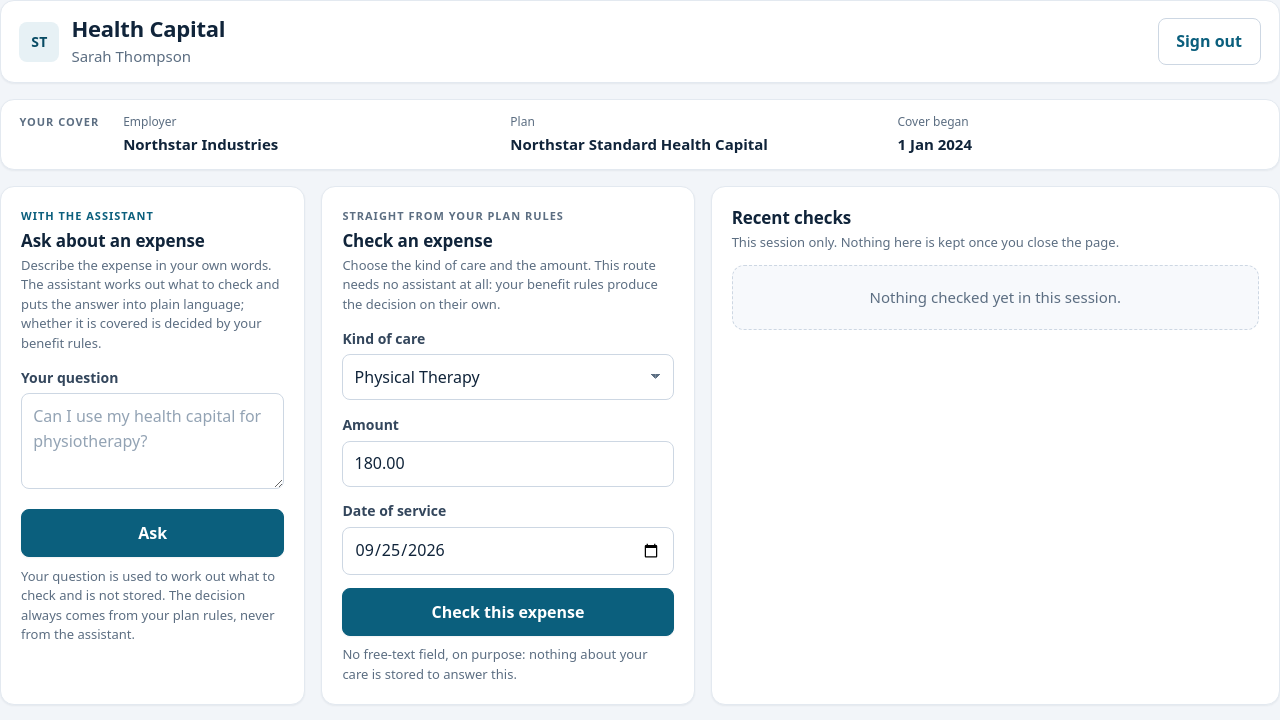
Test: recent checks keep one entry per thing that happened › keeps a different answer that follows the notice
Type "can I claim physio" into the text box labelled "Your question". click: (153, 441)
box: [21, 394, 284, 489]
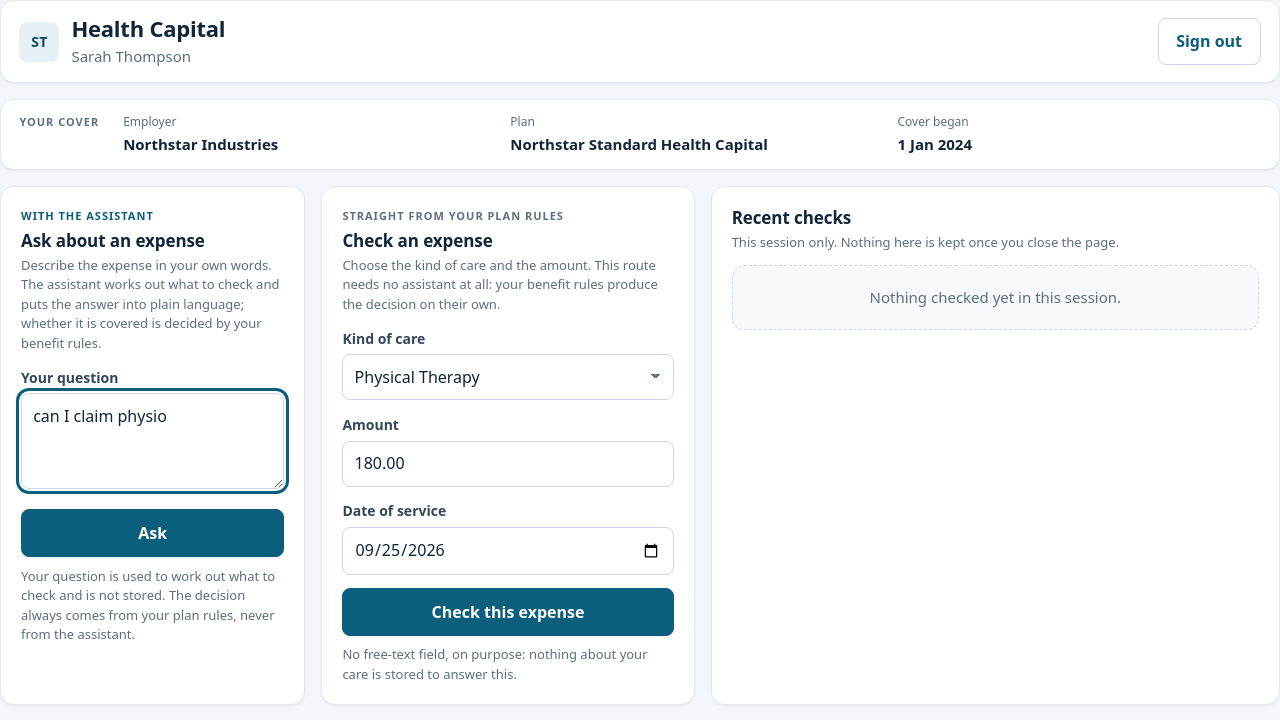
Click the button "Ask". click: click(153, 533)
box: [21, 509, 284, 557]
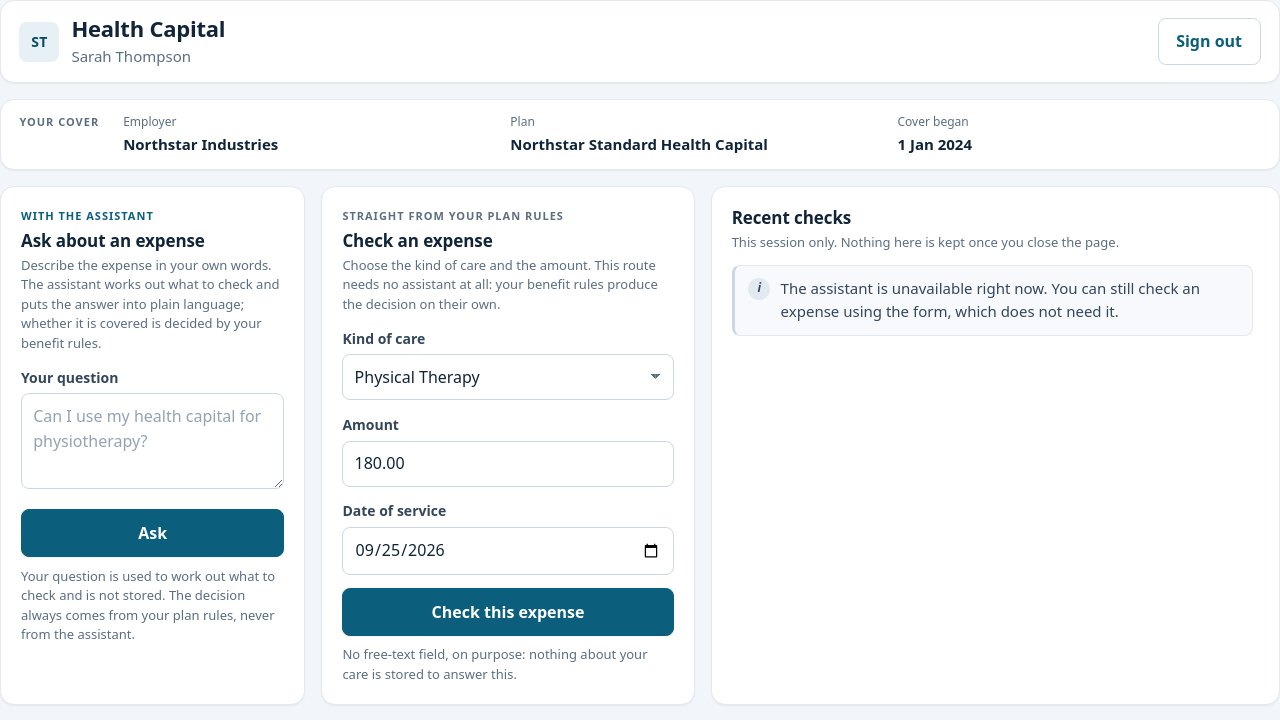
Now the text with test id "clarification" is shown, box [732, 265, 1253, 336]
Type "something else" into the text box labelled "Your question". click: (153, 441)
box: [21, 394, 284, 489]
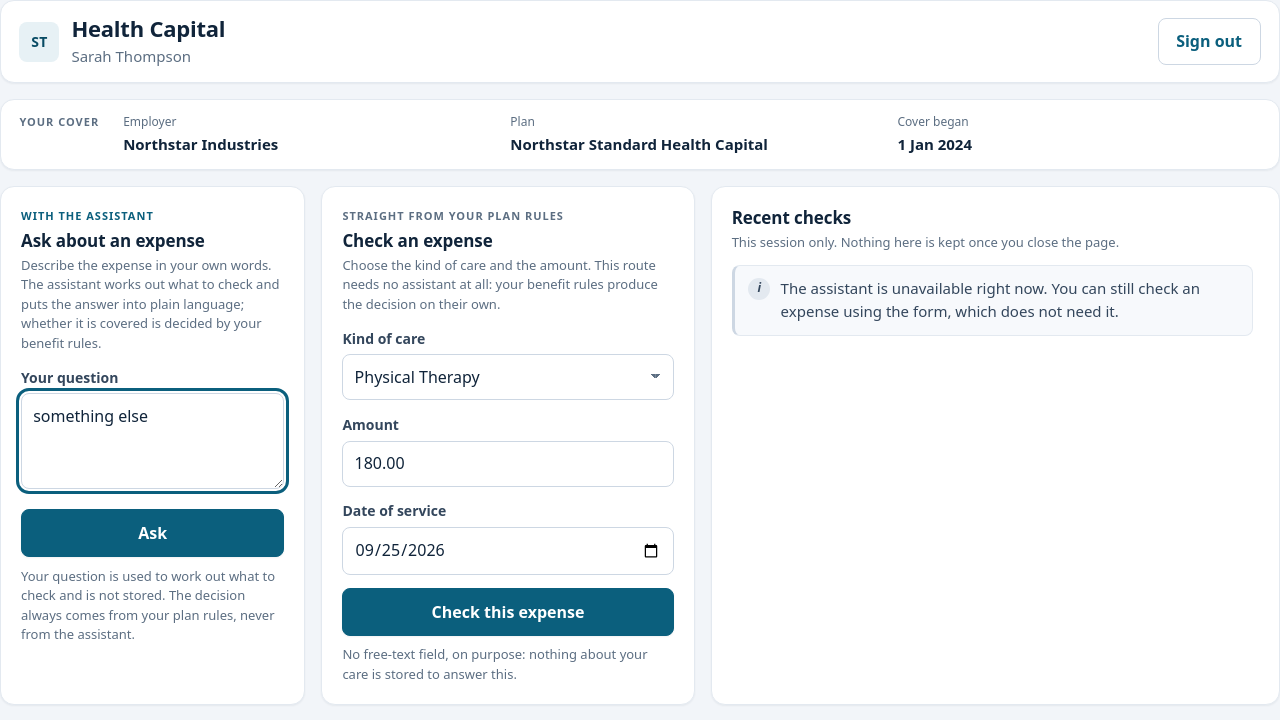
Click the button "Ask". click: click(153, 533)
box: [21, 509, 284, 557]
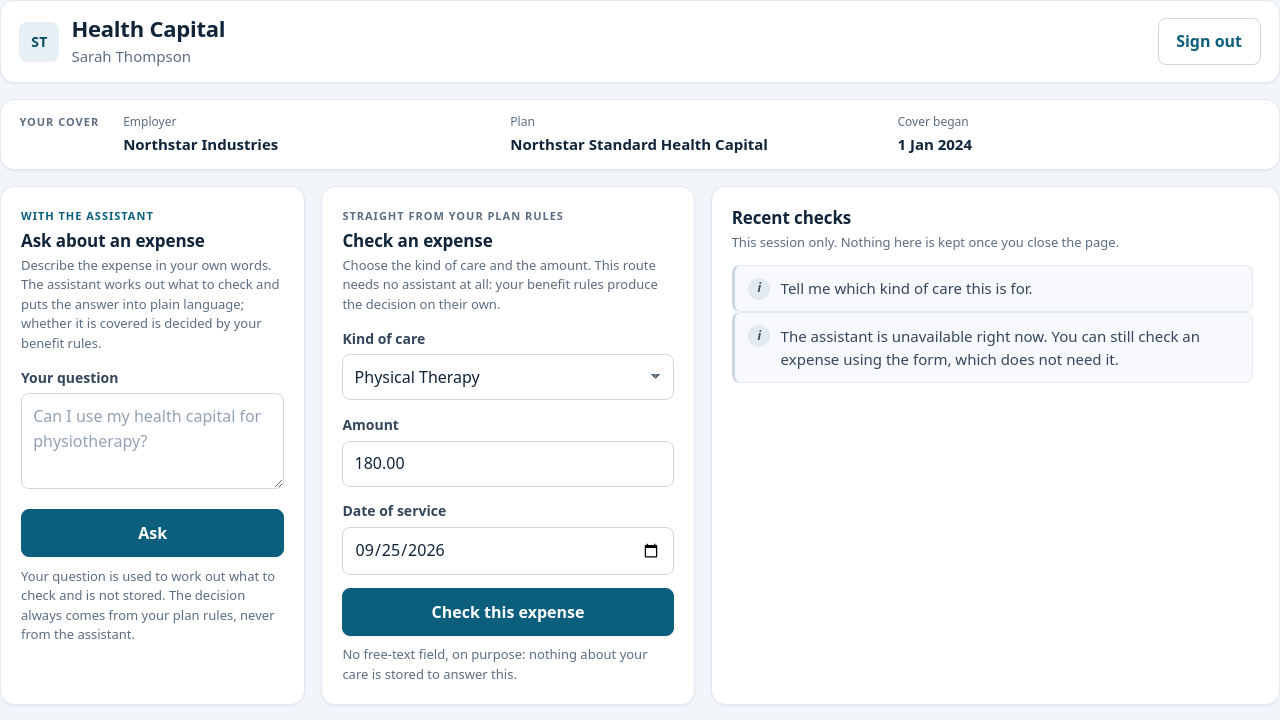
Now the text with test id "clarification" shows "The assistant is unavailable right now. You can still check an expense using the form, which does not need it.", box [781, 326, 1200, 369]
Now the number of elements with test id "clarification" is 2, box [732, 265, 1253, 312]; [732, 312, 1253, 383]
Now the text with test id "clarification" reads "Tell me which kind of care this is for.", box [781, 278, 1033, 298]
